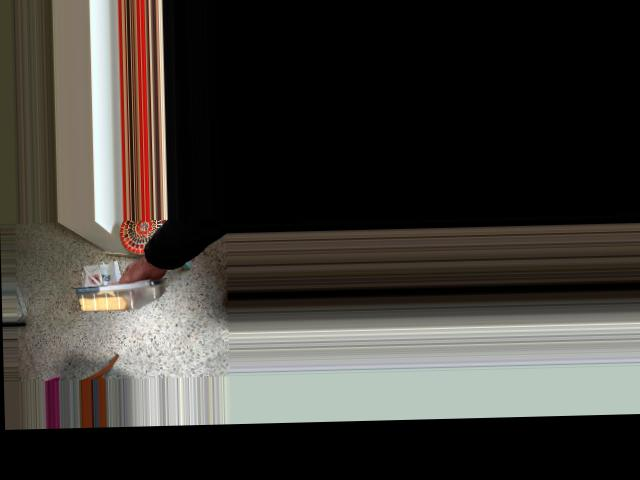cheese: (73, 261, 161, 322)
